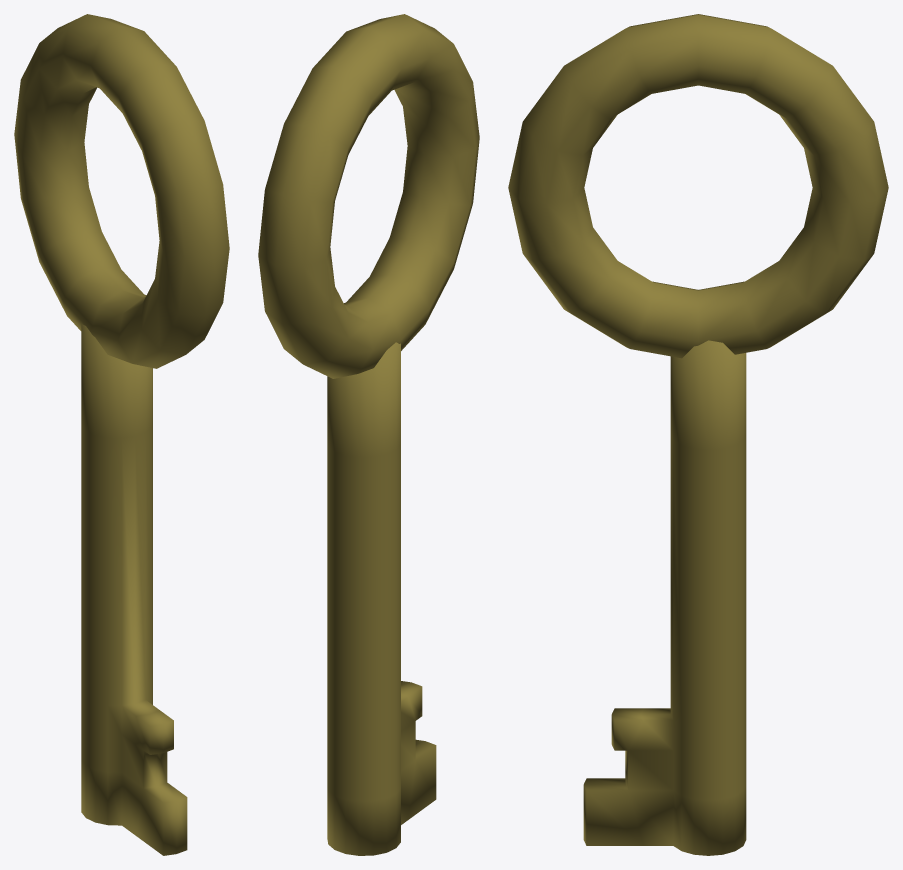
Rendered from key.fbx.
The picture shows the model from 3 angles, left to right: view 1: azimuth 30°, elevation 25°; view 2: azimuth 150°, elevation 25°; view 3: azimuth 270°, elevation 25°; orthographic projection. The views are drawn at different scales.
Parts seen in each view (by area): view 1: Key; view 2: Key; view 3: Key.
Boxes of the visible parts, x1,y1,x2,y2 form: Key: [14, 14, 229, 855]; Key: [258, 14, 479, 855]; Key: [508, 14, 888, 855].
Bounding box in the file's own units: 2.89 × 14.44 × 34.53.
